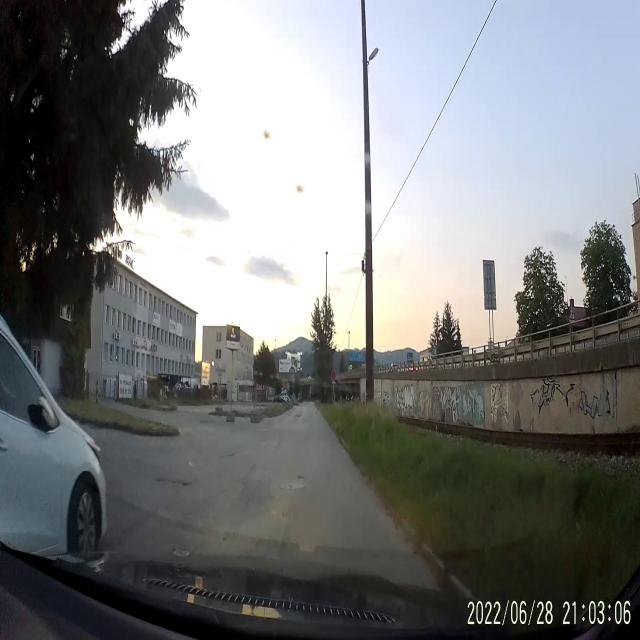Manhole: (280, 481, 306, 493), (170, 546, 194, 558)
Pothole: (152, 472, 192, 488)
